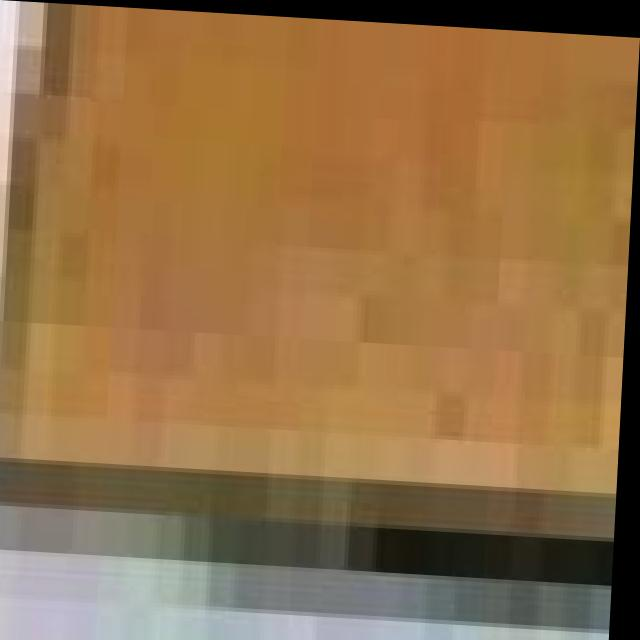capacitor: (0, 0, 640, 530)
